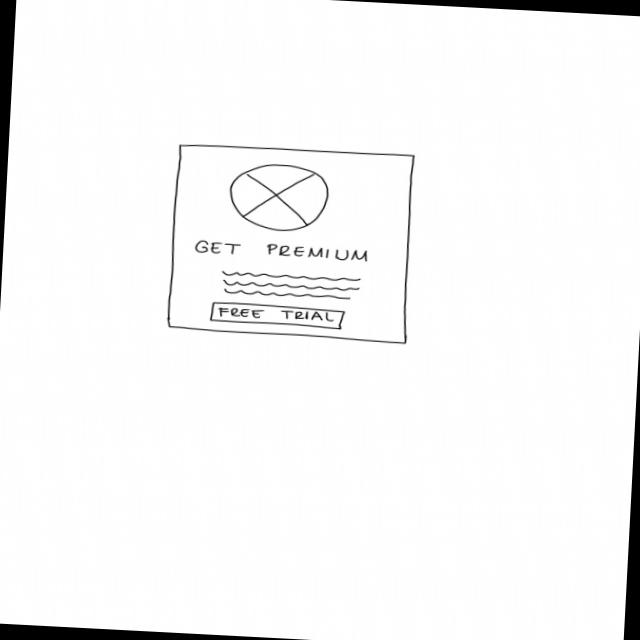button: (208, 300, 346, 331)
container: (165, 142, 418, 344)
image: (228, 160, 330, 233)
label: (193, 238, 371, 264)
textbox: (220, 270, 362, 302)
